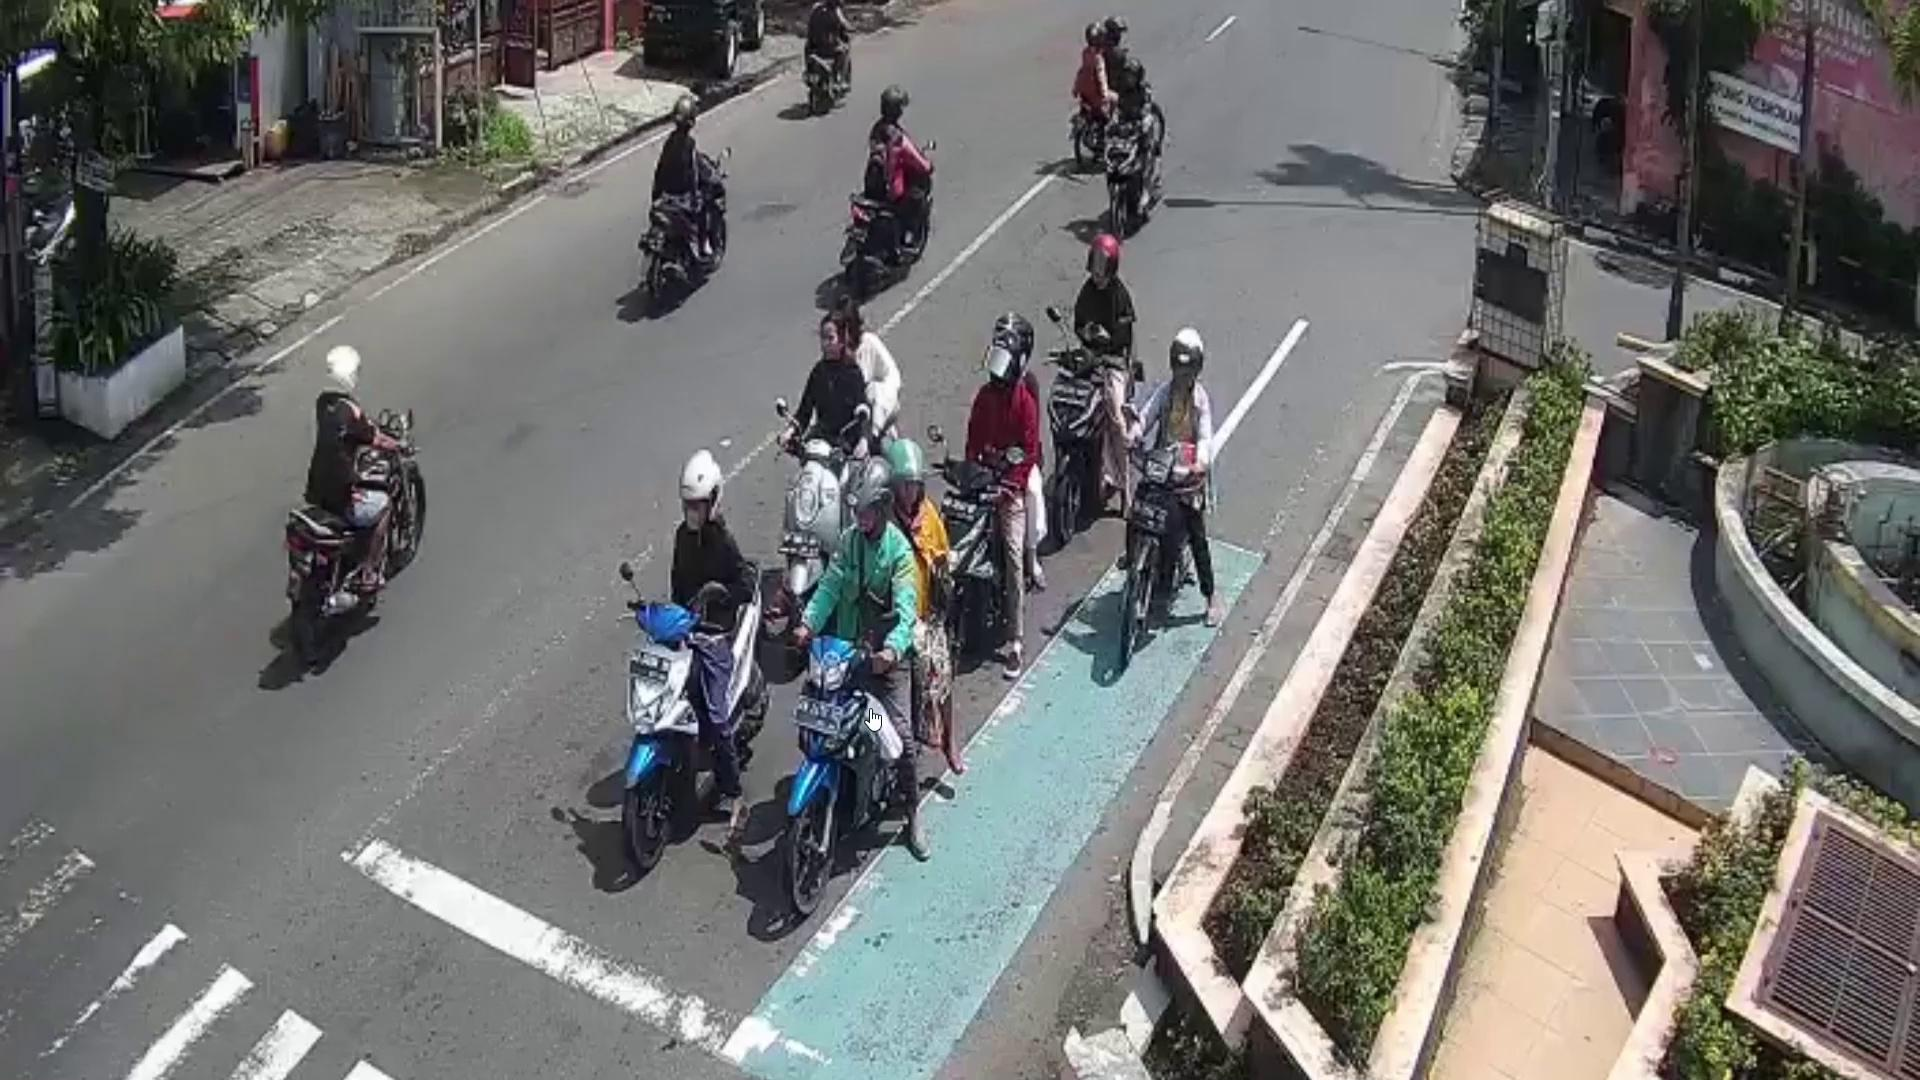motorbike: (616, 550, 777, 872), (781, 588, 923, 922), (286, 410, 426, 670), (793, 425, 909, 585), (1052, 345, 1145, 541), (924, 459, 1009, 665), (1124, 442, 1200, 651), (638, 153, 727, 318), (844, 152, 935, 299), (1073, 57, 1166, 178), (1104, 119, 1150, 241), (800, 28, 858, 112)
